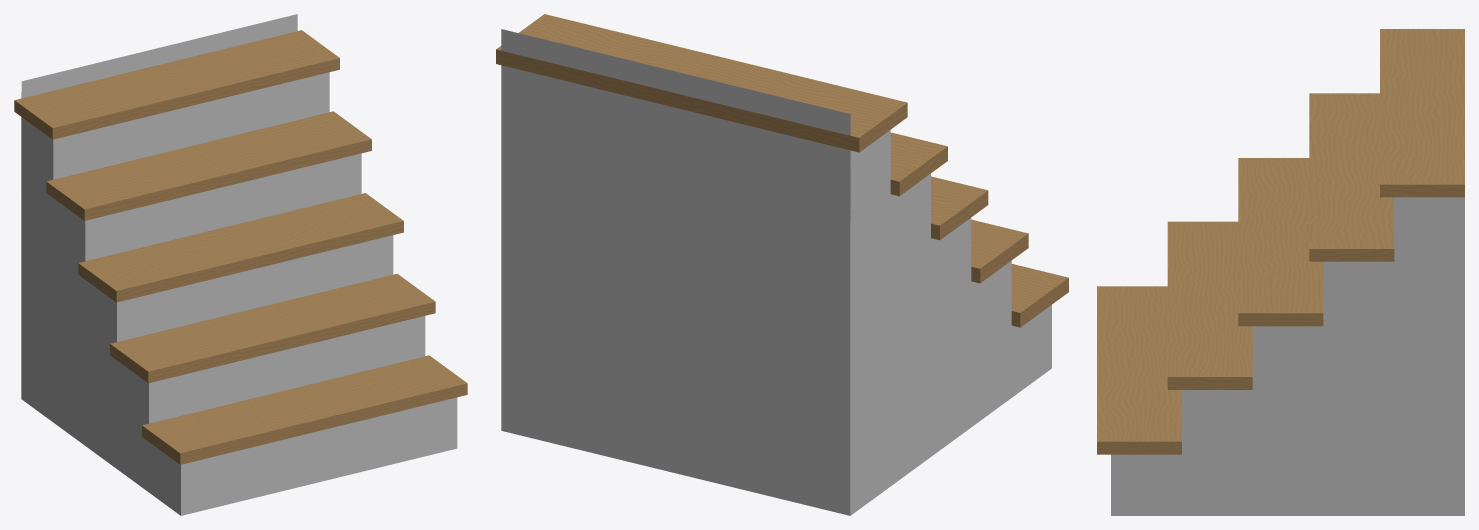
Rendered from Stairway_Short_A_03.FBX.
3 renders of one model, left to right at view 1: azimuth 30°, elevation 25°; view 2: azimuth 150°, elevation 25°; view 3: azimuth 270°, elevation 25°, orthographic. The views are drawn at different scales.
Parts seen in each view (by area): view 1: Stairway_Short; view 2: Stairway_Short; view 3: Stairway_Short.
Boxes of the visible parts, box(x1,y1,x2,y2) form: Stairway_Short: box(14, 14, 467, 515); Stairway_Short: box(496, 14, 1068, 515); Stairway_Short: box(1097, 29, 1464, 515).
Bounding box in the file's own units: 10236 × 10821 × 10230.
